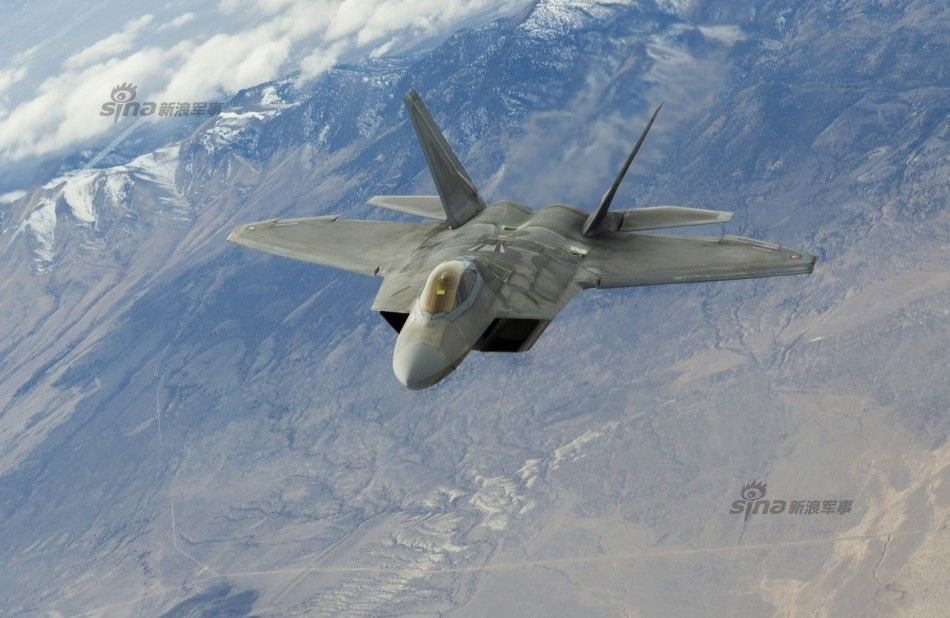airplane: (216, 104, 818, 388)
